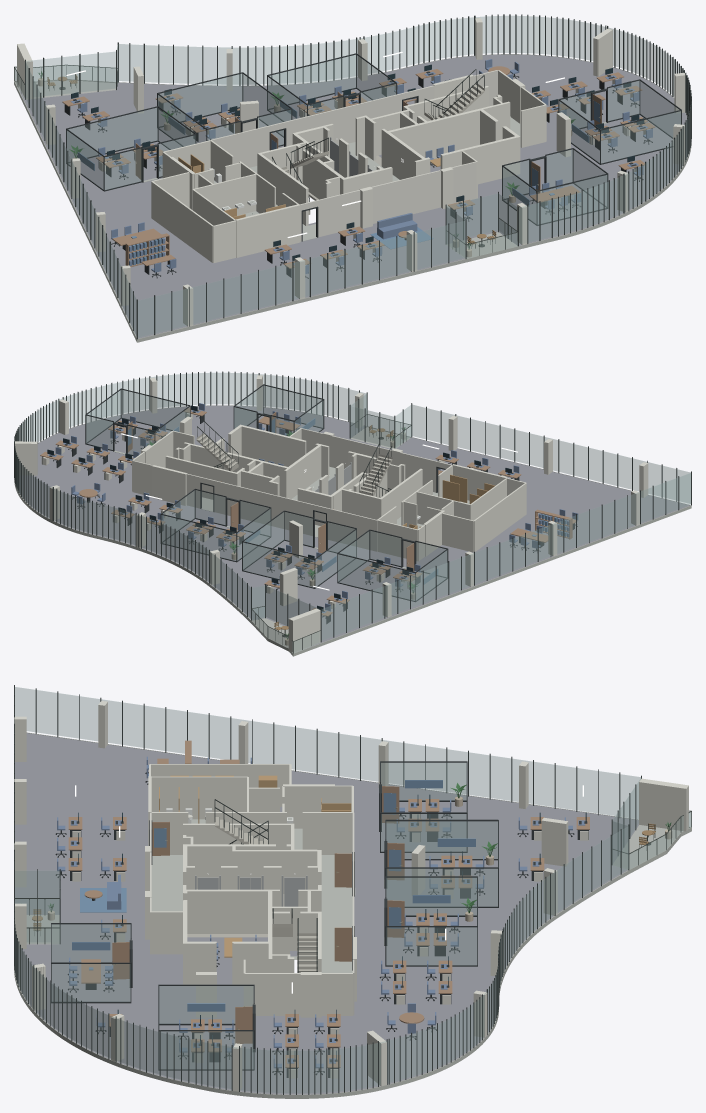
The model's file is office-floor-02-r3.glb.
The picture shows the model from 3 angles, top to bottom: view 1: azimuth 30°, elevation 25°; view 2: azimuth 150°, elevation 25°; view 3: azimuth 270°, elevation 25°; orthographic projection. The views are drawn at different scales.
Parts seen in each view (by area): view 1: SOURCE FLOOR | registered floor slab, SOURCE TRACED PARTITION | corrected R3 tenant south.001, R3 PROPOSED PARTITION | team-north-west.002, SOURCE WALL | 57, R3 PROPOSED PARTITION | team-north-east.002, SOURCE WALL | 170, R3 PROPOSED PARTITION | project-east.002, SOURCE TRACED PARTITION | service corridor.015, R3 PROPOSED PARTITION | team-north-centre.002, SOURCE TRACED PARTITION | corrected R3 tenant north.001, SOURCE WALL | 60, R3 PROPOSED PARTITION | boardroom-south.002 (+77 smaller); view 2: SOURCE FLOOR | registered floor slab, SOURCE TRACED PARTITION | corrected R3 tenant north.001, SOURCE TRACED PARTITION | corrected R3 tenant south.001, R3 PROPOSED PARTITION | team-north-west.002, SOURCE WALL | 60, R3 PROPOSED PARTITION | team-north-centre.002, R3 PROPOSED PARTITION | team-north-east.002, SOURCE TRACED PARTITION | service corridor.015, R3 PROPOSED PARTITION | project-east.002, SOURCE TRACED PARTITION | corrected R3 tenant north, SOURCE FLOOR | slab edge, R3 PROPOSED PARTITION | boardroom-south.002 (+49 smaller); view 3: SOURCE FLOOR | registered floor slab, SOURCE CORRIDOR | circulation finish, SOURCE WALL | 56, SOURCE TRACED PARTITION | service corridor.021, R3 PROPOSED PARTITION | team-north-centre.001, SOURCE TRACED PARTITION | service corridor.010, R3 PROPOSED PARTITION | team-north-east.001, R3 PROPOSED PARTITION | team-north-centre, R3 PROPOSED PARTITION | boardroom-south.001, R3 PROPOSED PARTITION | project-east, R3 PROPOSED PARTITION | team-north-east, R3 PROPOSED PARTITION | team-north-west.001 (+55 smaller).
Boxes of the visible parts, <box> form: SOURCE FLOOR | registered floor slab: <box>17,54,687,338</box>; SOURCE TRACED PARTITION | corrected R3 tenant south.001: <box>317,161,476,237</box>; R3 PROPOSED PARTITION | team-north-west.002: <box>67,108,157,158</box>; SOURCE WALL | 57: <box>388,108,482,158</box>; R3 PROPOSED PARTITION | team-north-east.002: <box>268,55,355,103</box>; SOURCE WALL | 170: <box>235,204,300,257</box>; R3 PROPOSED PARTITION | project-east.002: <box>601,111,680,163</box>; SOURCE TRACED PARTITION | service corridor.015: <box>151,181,213,262</box>; R3 PROPOSED PARTITION | team-north-centre.002: <box>158,74,242,121</box>; SOURCE TRACED PARTITION | corrected R3 tenant north.001: <box>285,93,401,146</box>; SOURCE WALL | 60: <box>440,136,516,184</box>; R3 PROPOSED PARTITION | boardroom-south.002: <box>538,175,607,223</box>; SOURCE FLOOR | registered floor slab: <box>19,405,690,648</box>; SOURCE TRACED PARTITION | corrected R3 tenant north.001: <box>214,480,313,535</box>; SOURCE TRACED PARTITION | corrected R3 tenant south.001: <box>301,428,436,492</box>; R3 PROPOSED PARTITION | team-north-west.002: <box>338,554,414,600</box>; SOURCE WALL | 60: <box>241,425,306,466</box>; R3 PROPOSED PARTITION | team-north-centre.002: <box>243,542,314,587</box>; R3 PROPOSED PARTITION | team-north-east.002: <box>161,515,235,560</box>; SOURCE TRACED PARTITION | service corridor.015: <box>474,483,526,551</box>; R3 PROPOSED PARTITION | project-east.002: <box>121,390,189,431</box>; SOURCE TRACED PARTITION | corrected R3 tenant north: <box>327,508,377,551</box>; SOURCE FLOOR | slab edge: <box>293,505,691,656</box>; R3 PROPOSED PARTITION | boardroom-south.002: <box>264,385,322,427</box>; SOURCE FLOOR | registered floor slab: <box>15,733,638,1094</box>; SOURCE CORRIDOR | circulation finish: <box>151,855,352,972</box>; SOURCE WALL | 56: <box>183,889,272,933</box>; SOURCE TRACED PARTITION | service corridor.021: <box>244,973,352,1015</box>; R3 PROPOSED PARTITION | team-north-centre.001: <box>386,869,497,906</box>; SOURCE TRACED PARTITION | service corridor.010: <box>151,776,247,819</box>; R3 PROPOSED PARTITION | team-north-east.001: <box>386,927,476,964</box>; R3 PROPOSED PARTITION | team-north-centre: <box>386,821,497,858</box>; R3 PROPOSED PARTITION | boardroom-south.001: <box>52,964,130,1001</box>; R3 PROPOSED PARTITION | project-east: <box>159,986,253,1023</box>; R3 PROPOSED PARTITION | team-north-east: <box>386,878,476,915</box>; R3 PROPOSED PARTITION | team-north-west.001: <box>381,814,466,851</box>.
Bounding box in the file's own units: 49.76 × 5.32 × 39.12.
